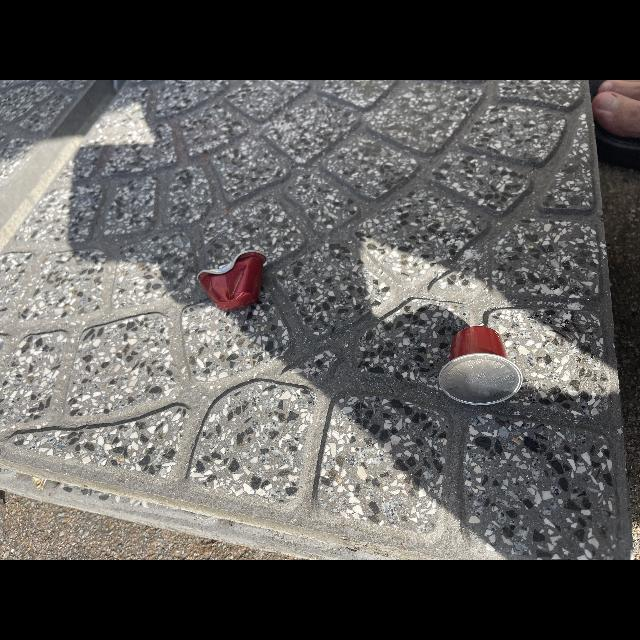damaged_capsule: (192, 243, 276, 333)
intact_capsule: (437, 314, 528, 416)
